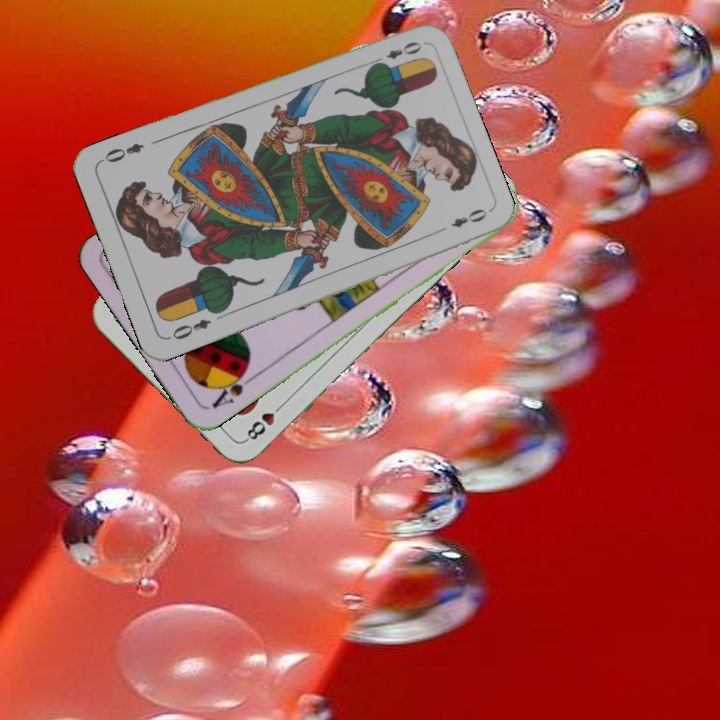EO: (368, 37, 424, 68), (164, 314, 214, 343)
H8: (241, 398, 288, 444)
SA: (207, 364, 258, 411)
